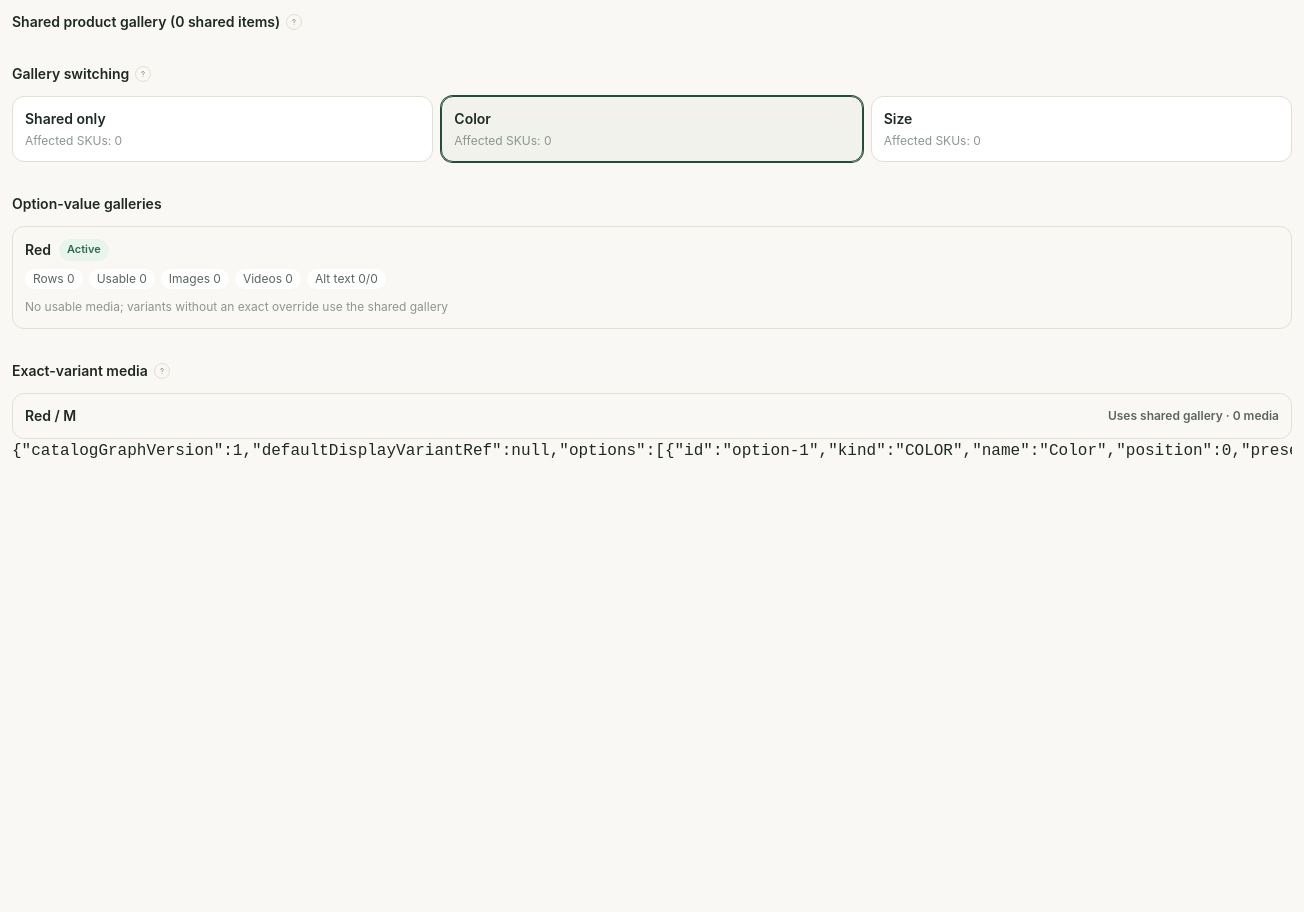
ProductMediaScopesEditor › keeps a scope visible while its upload receipt still has filenames
Click the button "Size Affected SKUs: 0": [932, 140] box [871,96,1292,162]
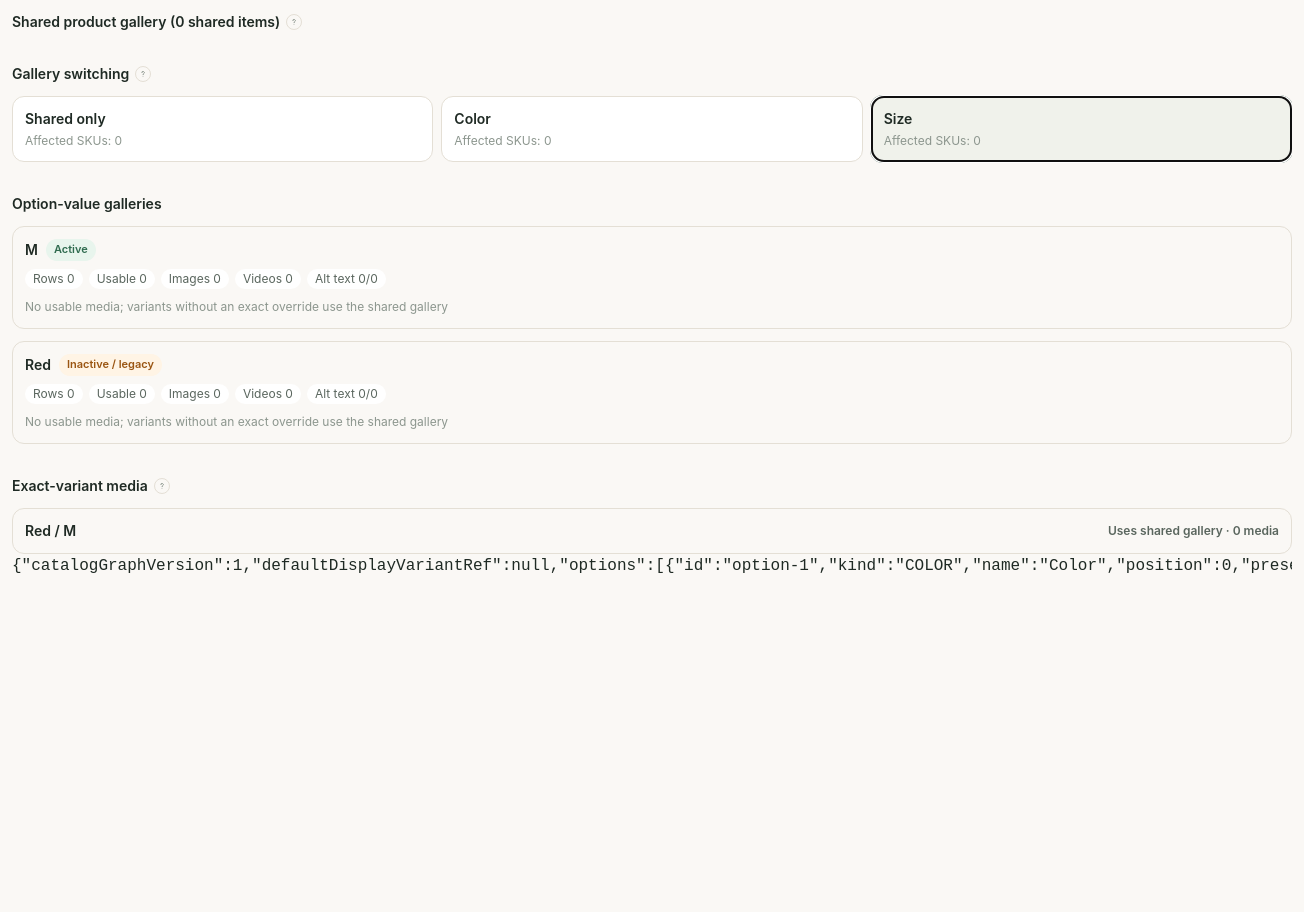
Now the heading named "Color / Red media summary" shows "Inactive / legacy"
Click the heading named "Color / Red media summary": [237, 391] box [25,354,448,429]
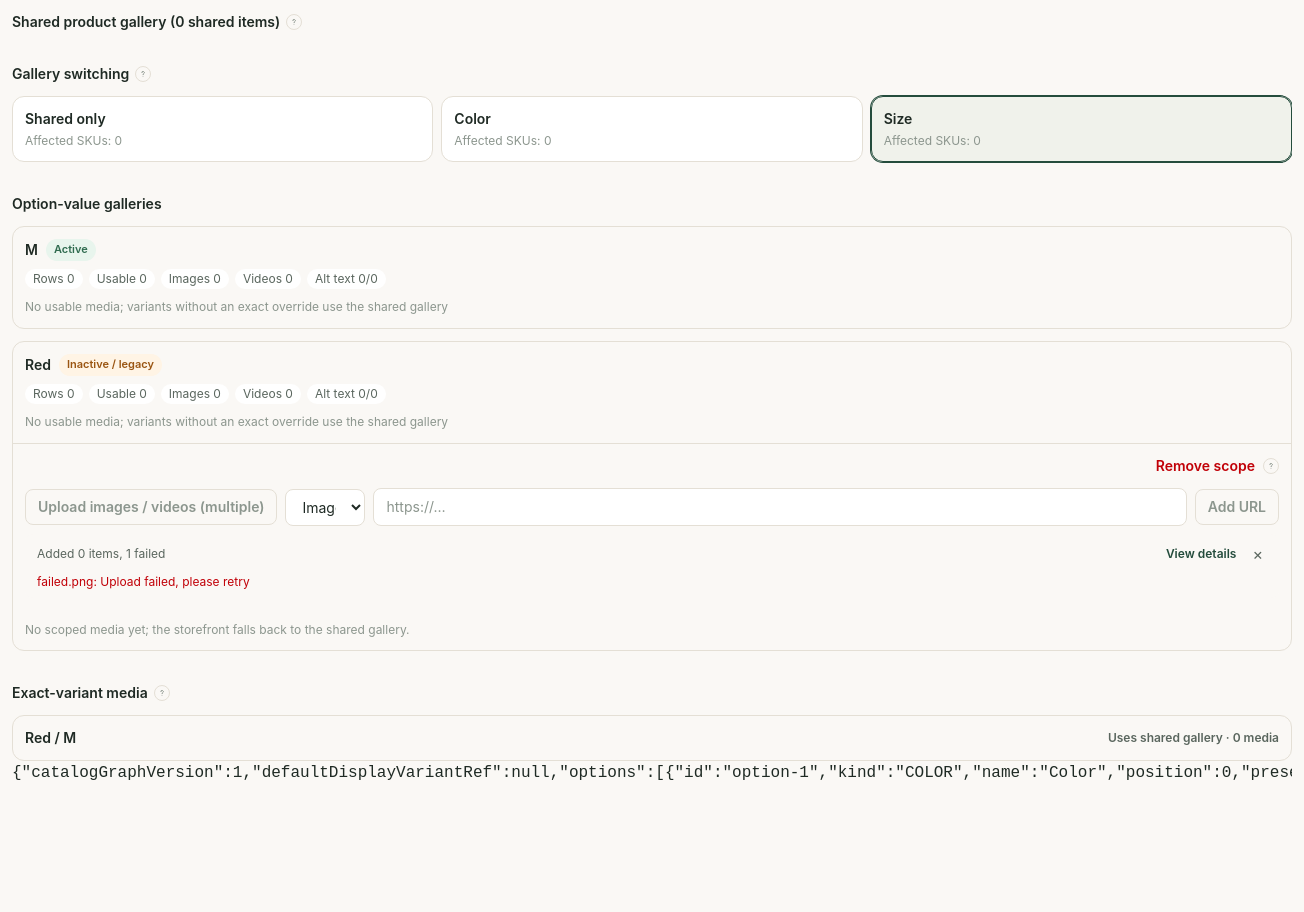
Now the message "failed.png: Upload failed, please retry" is shown, box [37,574,250,589]
